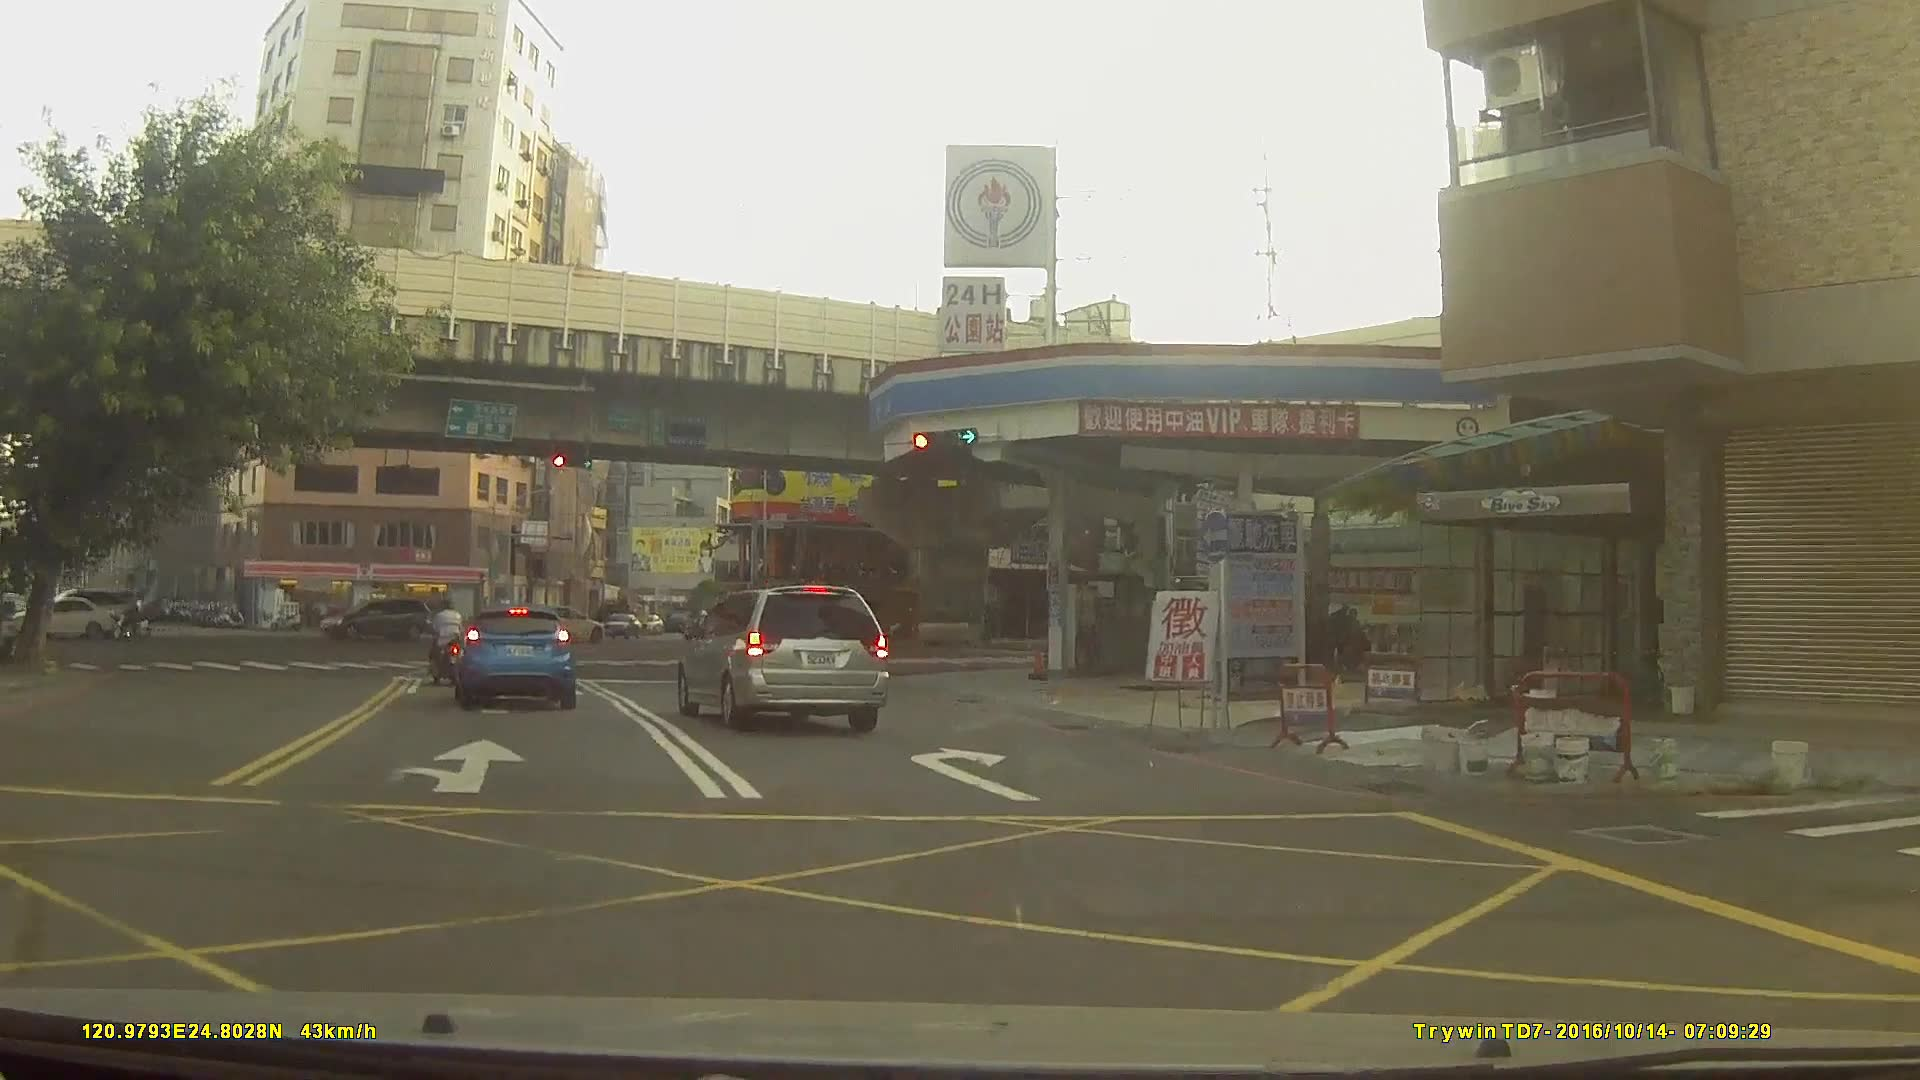rider: (430, 599, 470, 681), (113, 611, 141, 642)
vehicle: (677, 581, 889, 732), (450, 602, 576, 711), (320, 598, 433, 646), (10, 595, 114, 643), (525, 604, 605, 646)
